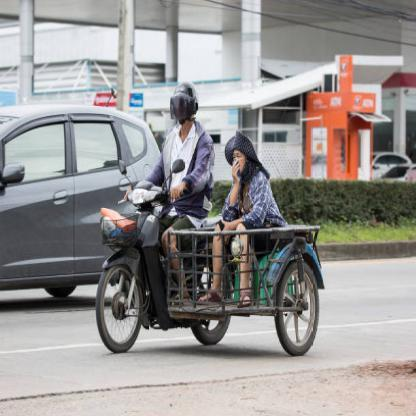Motorcycle: (98, 155, 162, 352)
